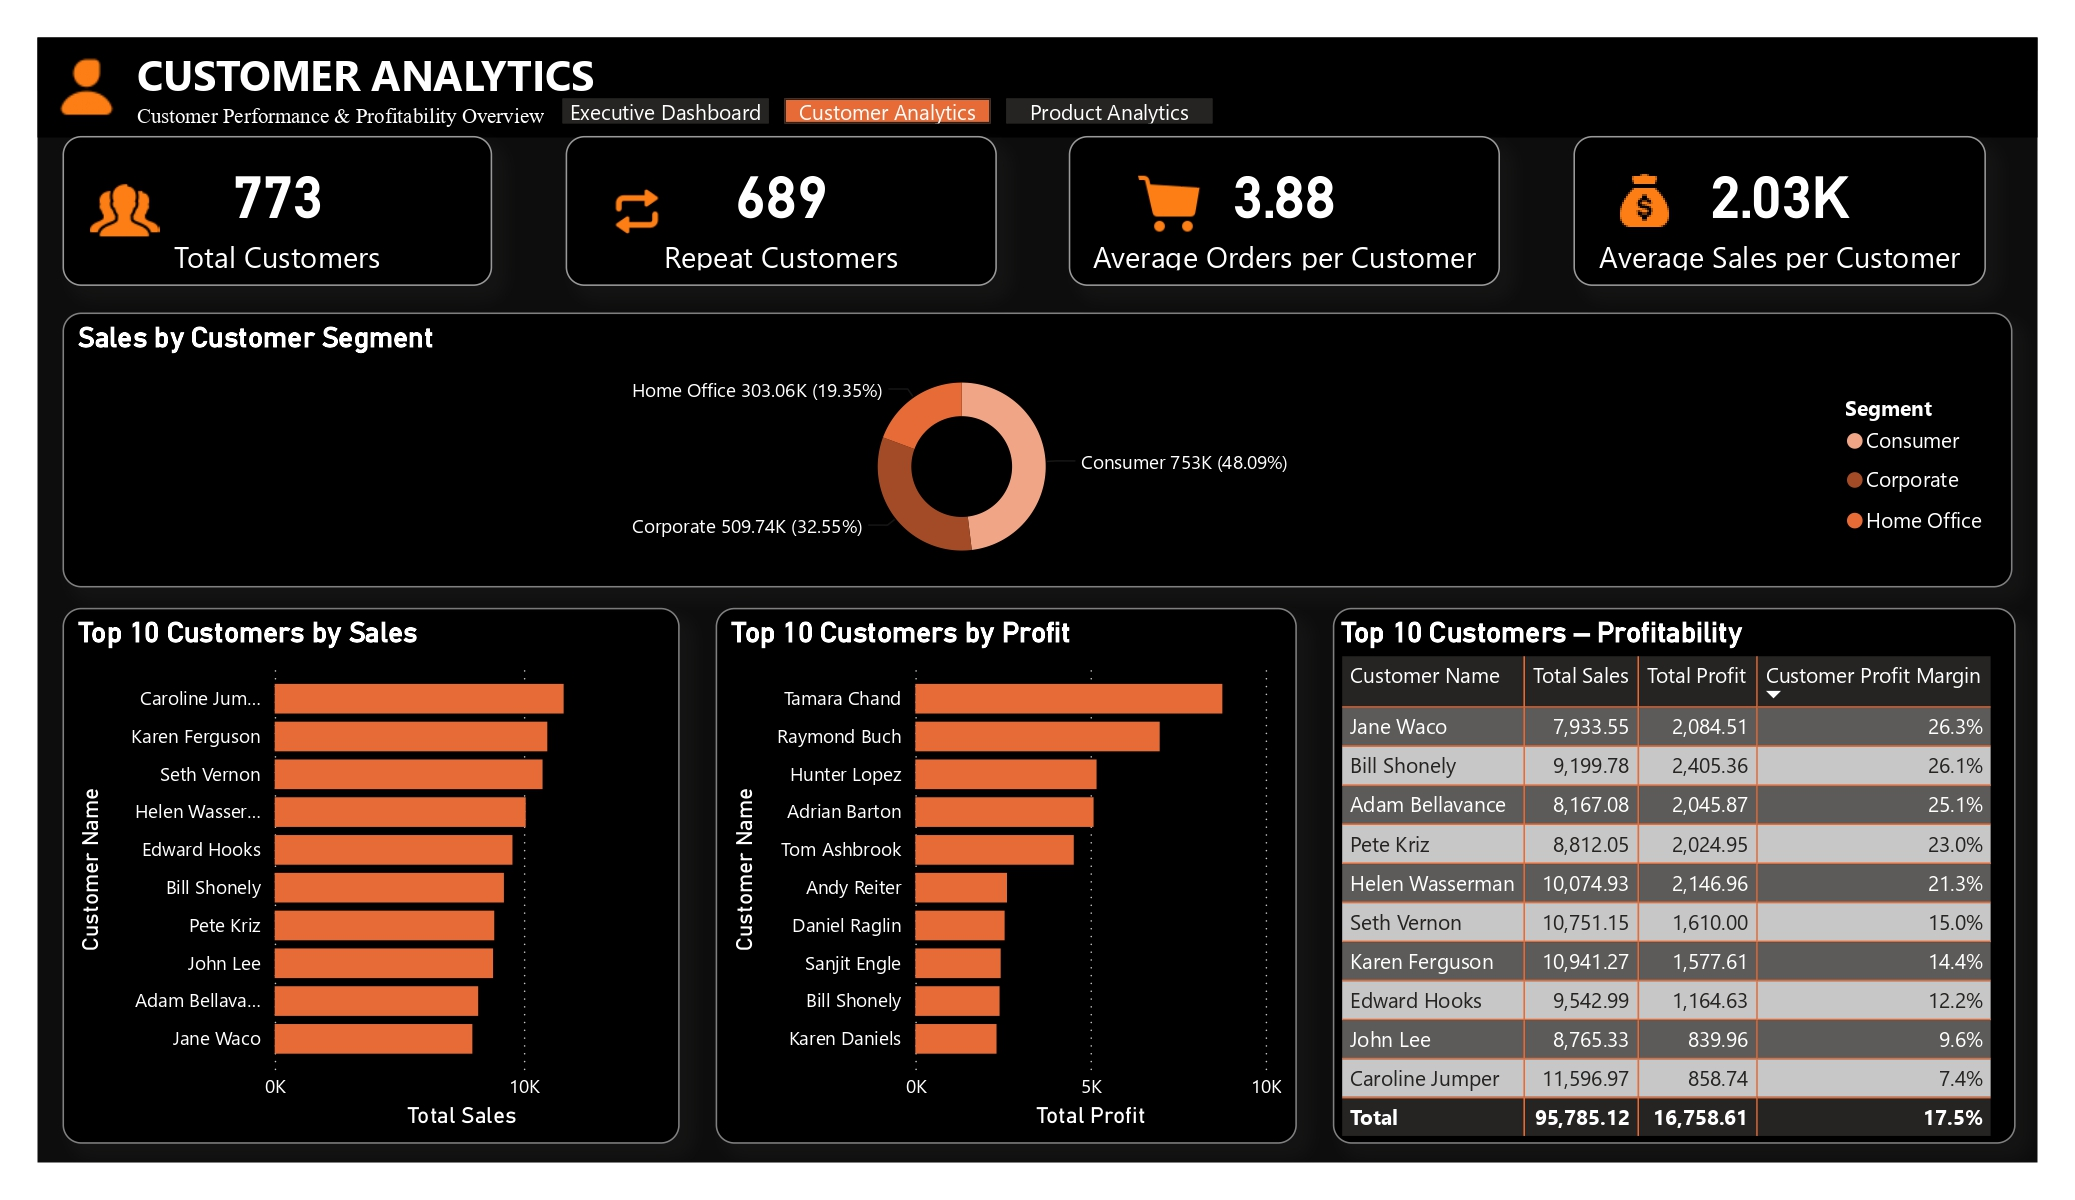

This screenshot's page, from the dashboard's own definition file:
{"tool":"powerbi","page":{"name":"Customer Analytics","canvas":[1280,720],"ordinal":1},"visuals":[{"type":"clusteredBarChart","title":"Top 10 Customers by Sales","fields":{"Category":["SuperStore_Sales_Dataset.Customer Name"],"Y":["SuperStore_Sales_Dataset.Total Sales"]},"box":[15.7,365,395.7,342.9],"z":0},{"type":"donutChart","title":"Sales by Customer Segment","fields":{"Category":["SuperStore_Sales_Dataset.Segment"],"Y":["SuperStore_Sales_Dataset.Total Sales"]},"box":[16,176,1248,176],"z":1000},{"type":"clusteredBarChart","title":"Top 10 Customers by Profit","fields":{"Category":["SuperStore_Sales_Dataset.Customer Name"],"Y":["SuperStore_Sales_Dataset.Total Profit"]},"box":[434.3,365,371.4,342.9],"z":2000},{"type":"tableEx","title":"Top 10 Customers – Profitability","fields":{"Values":["SuperStore_Sales_Dataset.Customer Name","SuperStore_Sales_Dataset.Total Sales","SuperStore_Sales_Dataset.Total Profit","SuperStore_Sales_Dataset.Customer Profit Margin"]},"box":[828.6,365,437.1,342.9],"z":3000},{"type":"textbox","box":[0,0,1280,64],"z":4000},{"type":"card","fields":{"Values":["SuperStore_Sales_Dataset.Total Customers"]},"box":[15.7,62.9,275.7,95.7],"z":5000},{"type":"card","fields":{"Values":["SuperStore_Sales_Dataset.Repeat Customers"]},"box":[338.1,62.9,275.7,95.7],"z":6000},{"type":"card","fields":{"Values":["SuperStore_Sales_Dataset.Average Orders per Customer"]},"box":[660.5,62.9,275.7,95.7],"z":7000},{"type":"card","fields":{"Values":["SuperStore_Sales_Dataset.Average Sales per Customer"]},"box":[982.9,62.9,264.3,95.7],"z":8000},{"type":"image","box":[28.6,81.4,54.3,60],"z":9000},{"type":"image","box":[357.1,81.4,54.3,60],"z":10000},{"type":"image","box":[1004.3,81.4,48.6,48.6],"z":11000},{"type":"image","box":[698.6,75.7,54.3,60],"z":12000},{"type":"image","box":[0,0,64,64],"z":13000},{"type":"pageNavigator","box":[336,39,416,16],"z":13001}]}

Visuals, with their boxes on the page's 1280x720 design canvas (x1, y1, x2, y2). These are canvas units, not pixel positions in the 2075x1200 screenshot, which may show the page scaled, cropped or inside an application window:
"Top 10 Customers by Sales" clusteredBarChart: detection(16, 365, 411, 708)
"Sales by Customer Segment" donutChart: detection(16, 176, 1264, 352)
"Top 10 Customers by Profit" clusteredBarChart: detection(434, 365, 806, 708)
"Top 10 Customers – Profitability" tableEx: detection(829, 365, 1266, 708)
textbox: detection(0, 0, 1280, 64)
card - SuperStore_Sales_Dataset.Total Customers: detection(16, 63, 291, 159)
card - SuperStore_Sales_Dataset.Repeat Customers: detection(338, 63, 614, 159)
card - SuperStore_Sales_Dataset.Average Orders per Customer: detection(660, 63, 936, 159)
card - SuperStore_Sales_Dataset.Average Sales per Customer: detection(983, 63, 1247, 159)
image: detection(29, 81, 83, 141)
image: detection(357, 81, 411, 141)
image: detection(1004, 81, 1053, 130)
image: detection(699, 76, 753, 136)
image: detection(0, 0, 64, 64)
pageNavigator: detection(336, 39, 752, 55)
